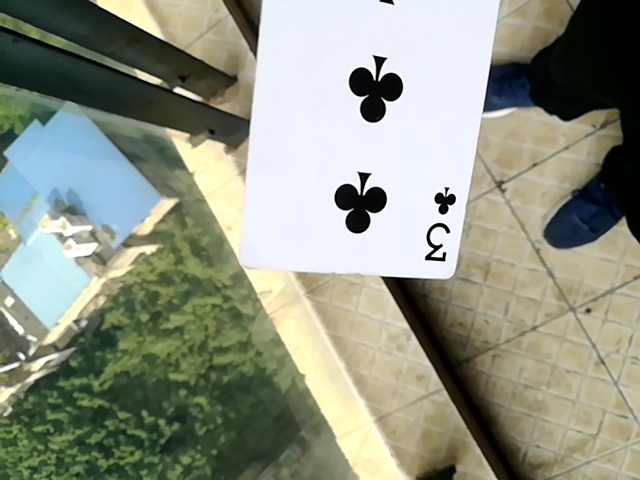mh 3: (230, 0, 500, 289)
